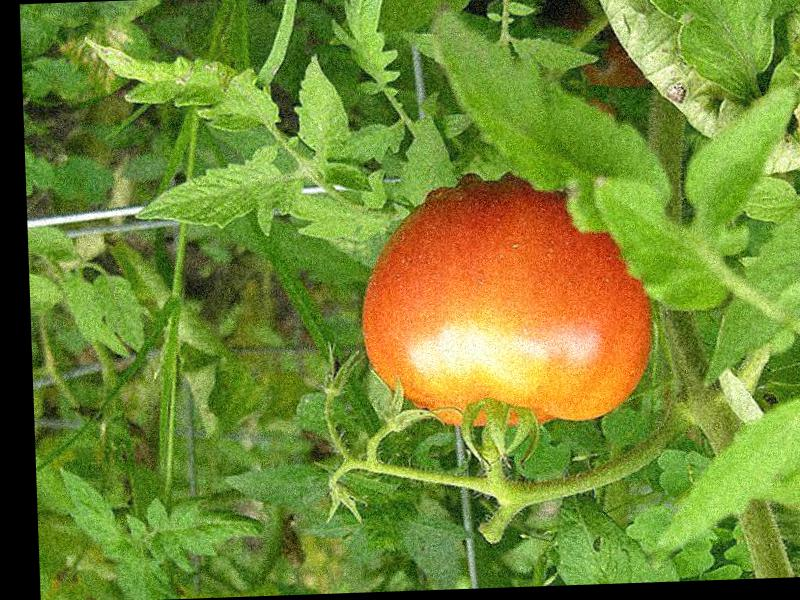Tomato: (360, 179, 653, 432)
